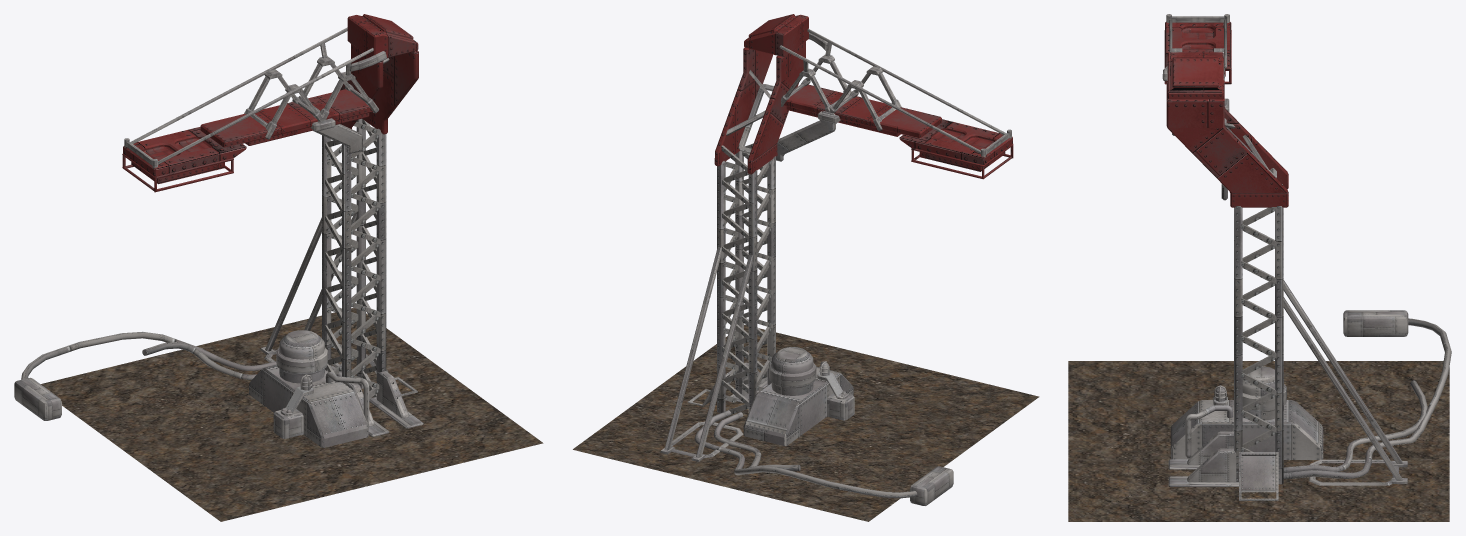
Rendered from static.fbx.
3 renders of one model, left to right at view 1: azimuth 30°, elevation 25°; view 2: azimuth 150°, elevation 25°; view 3: azimuth 270°, elevation 25°, orthographic. The views are drawn at different scales.
Visible parts, largest first — view 1: scorch, Cube_1_8, Cube_10, Cube_18, Boole, Cube_39, Cylinder_3, Cube_48, Cube_15, Cube_1_3, Sweep_1, Cube_57 (+10 smaller); view 2: scorch, Cube_18, Cube_1_8, Cube_10, Cube_20, Boole, Cube_57, Cylinder_3, Cube_15, Cube_30, Sweep_1, Cube_1_3 (+9 smaller); view 3: scorch, Cube_18, Cube_1_8, Cube_20, Cube_15, Cube_30, Cube_39, Sweep_1, Boole, Cube_2_3, Cube, Cube_13 (+5 smaller).
Part boxes in pixels (<box>): scorch: <box>41,307,543,521</box>; Cube_1_8: <box>249,364,368,447</box>; Cube_10: <box>200,89,372,147</box>; Cube_18: <box>340,43,418,134</box>; Boole: <box>123,126,246,176</box>; Cube_39: <box>376,128,386,399</box>; Cylinder_3: <box>276,330,327,383</box>; Cube_48: <box>342,144,351,383</box>; Cube_15: <box>347,14,418,57</box>; Cube_1_3: <box>130,27,373,164</box>; Sweep_1: <box>21,331,341,379</box>; Cube_57: <box>322,135,331,371</box>; scorch: <box>573,324,1039,521</box>; Cube_18: <box>714,41,805,174</box>; Cube_1_8: <box>743,367,853,445</box>; Cube_10: <box>783,84,941,137</box>; Cube_20: <box>664,247,753,457</box>; Boole: <box>899,119,1012,164</box>; Cube_57: <box>748,170,757,412</box>; Cylinder_3: <box>769,347,816,395</box>; Cube_15: <box>744,14,808,56</box>; Cube_30: <box>717,161,725,413</box>; Sweep_1: <box>694,410,917,498</box>; Cube_1_3: <box>779,28,1006,153</box>; scorch: <box>1068,361,1449,521</box>; Cube_18: <box>1166,80,1288,207</box>; Cube_1_8: <box>1170,400,1323,459</box>; Cube_20: <box>1283,280,1402,480</box>; Cube_15: <box>1167,52,1223,99</box>; Cube_30: <box>1275,206,1283,484</box>; Cube_39: <box>1234,206,1242,481</box>; Sweep_1: <box>1283,318,1451,479</box>; Boole: <box>1165,22,1231,70</box>; Cube_2_3: <box>1187,431,1236,481</box>; Cube: <box>1239,452,1278,500</box>; Cube_13: <box>1343,310,1408,336</box>.
Bounding box in the file's own units: 586 × 680 × 521.
